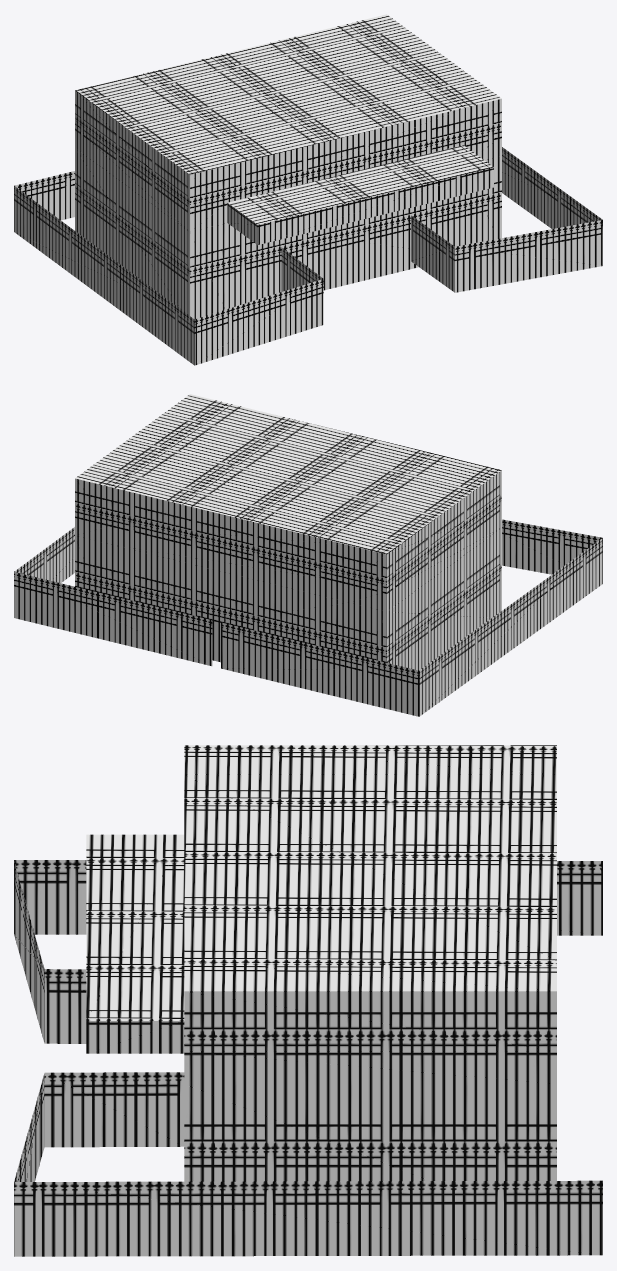
Rendered from sedgewick.fbx.
3 views of the same model, one above another, from view 1: azimuth 30°, elevation 25°; view 2: azimuth 150°, elevation 25°; view 3: azimuth 270°, elevation 25° (orthographic). The views are drawn at different scales.
Visible parts, largest first — view 1: Sedgewick; view 2: Sedgewick; view 3: Sedgewick.
Boxes of the visible parts, x1,y1,x2,y2 form: Sedgewick: [14, 14, 602, 365]; Sedgewick: [14, 394, 602, 716]; Sedgewick: [14, 745, 602, 1256].
Size of the model in its own units: 409 by 142 by 316.
Materials: 1 (1 with a texture image).
